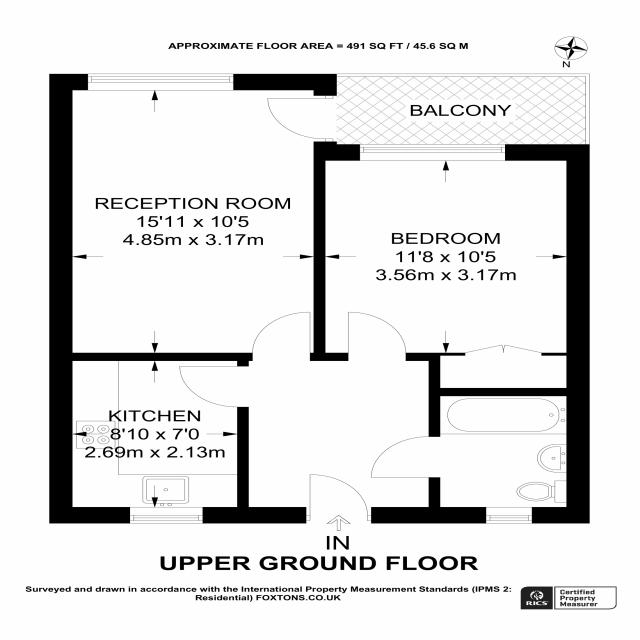DOOR: (305, 471, 374, 523), (266, 95, 337, 143), (368, 435, 440, 480), (178, 365, 250, 409), (250, 311, 312, 361), (346, 311, 407, 361)
ROOM: (49, 73, 337, 361), (312, 144, 591, 396), (49, 352, 250, 524)
WINDOW: (87, 73, 234, 91), (358, 144, 507, 161), (128, 506, 205, 524), (485, 506, 534, 524)
